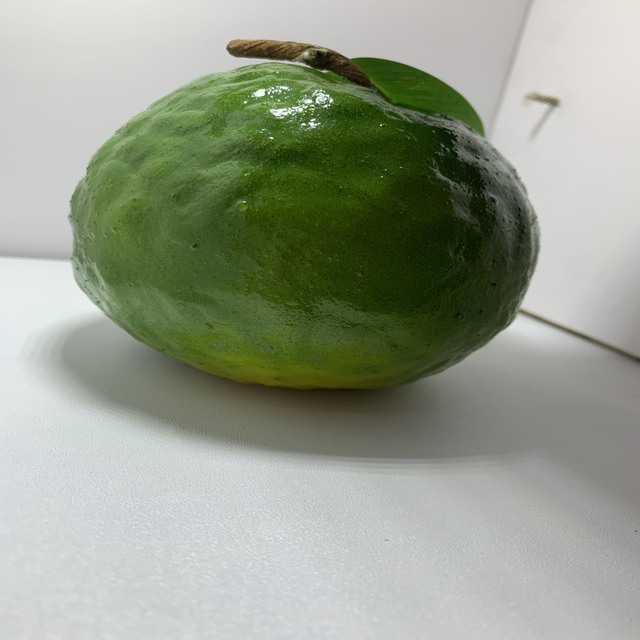Cam xanh: (58, 44, 556, 403)
